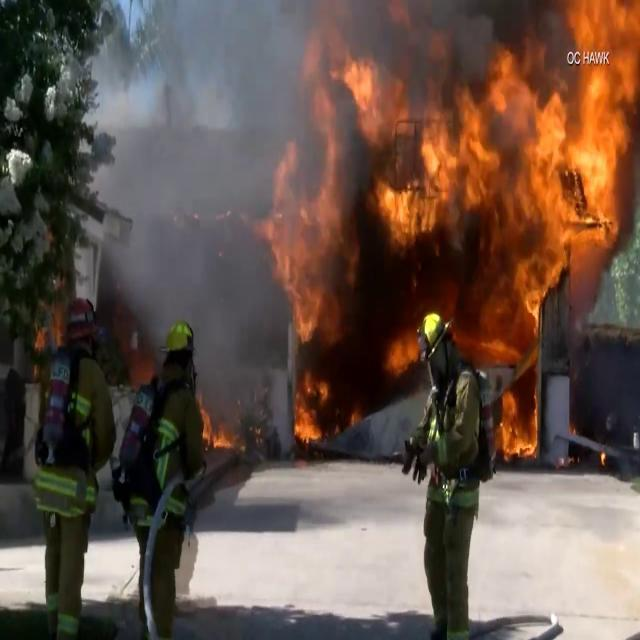Fire: (330, 0, 640, 440), (258, 37, 371, 432)
Smoke: (90, 1, 294, 426)
